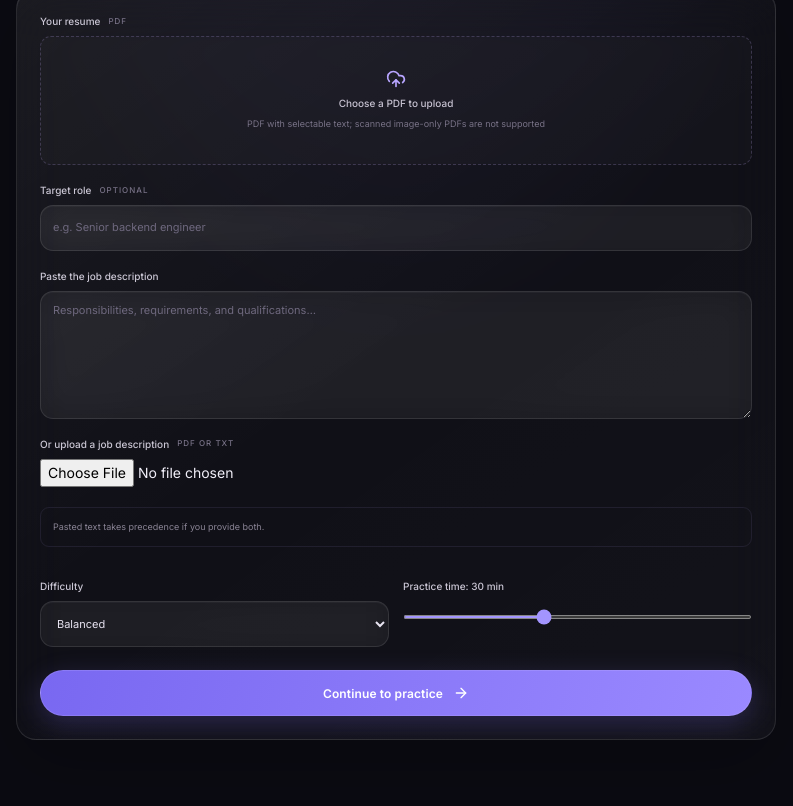
Test: Resume and job setup › requires a resume and a job description before uploading
(page scrolled)
Click the button "Continue to practice": (396, 693) x1=40 y1=670 x2=752 y2=716
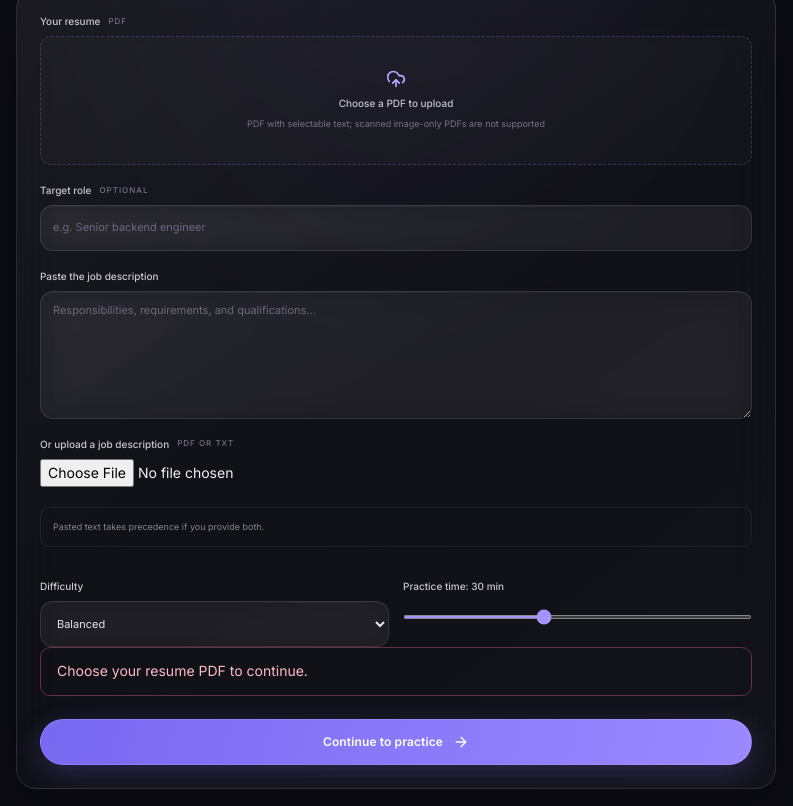
Expected: the message shows "Choose your resume PDF", x1=57 y1=662 x2=308 y2=679
